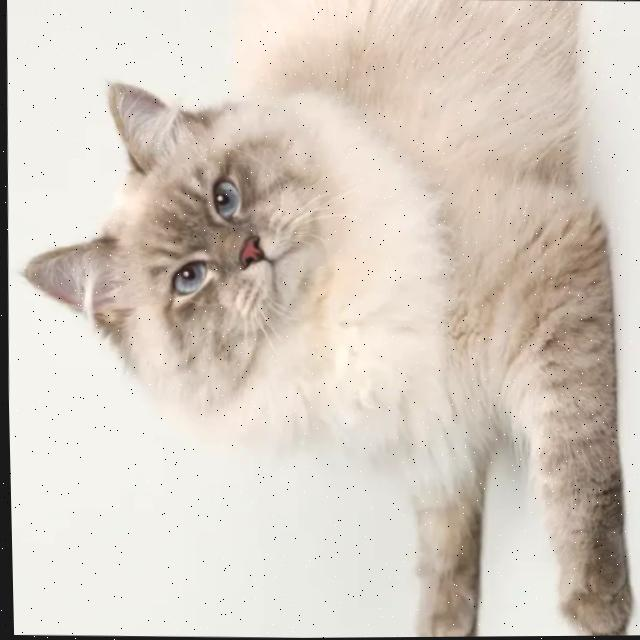Neva Masquerade: (4, 0, 640, 640)
